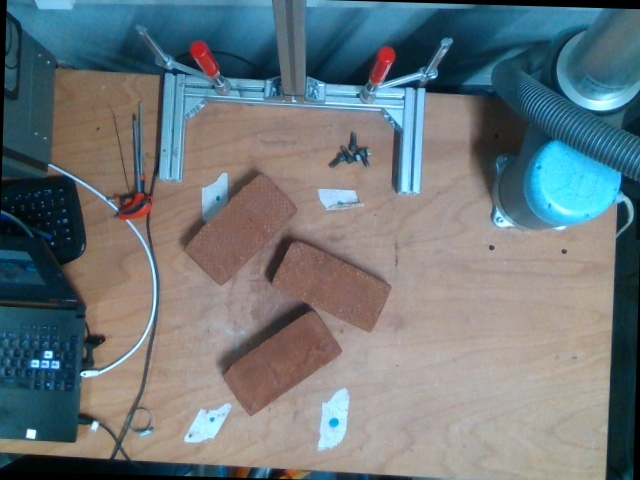brick: (219, 308, 341, 417), (184, 171, 297, 287), (271, 239, 390, 333)
